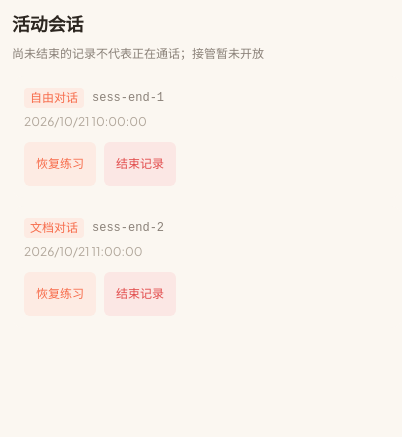
Test: ActiveSessions Component › Cross-platform lifecycle driving dashboard discovery › Explicit End Active Session (CP-02 §2) › displays inline confirmation without window.confirm and allows cancellation without network request
The width and height of the screenshot is (402, 437).
Note: 点击“结束记录”
Click the button with test id "end-session-button-sess-end-1": (140, 164) 104,142 -> 176,186
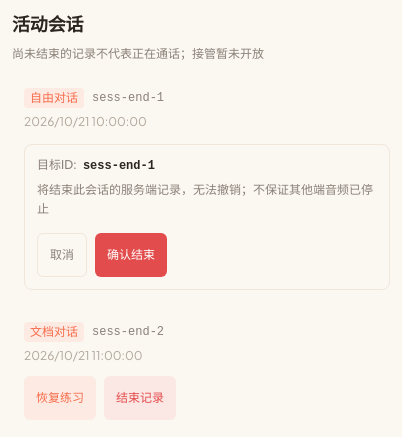
Expected: the element with test id "end-confirm-panel-sess-end-1" is shown, 24,144 -> 390,290
Expected: the text "目标ID:" is shown, 37,156 -> 77,172
Expected: the text with test id "confirm-session-id-sess-end-1" reads "sess-end-1", 83,158 -> 155,172
Click the button with test id "cancel-end-button-sess-end-1": (62, 254) 37,232 -> 87,276
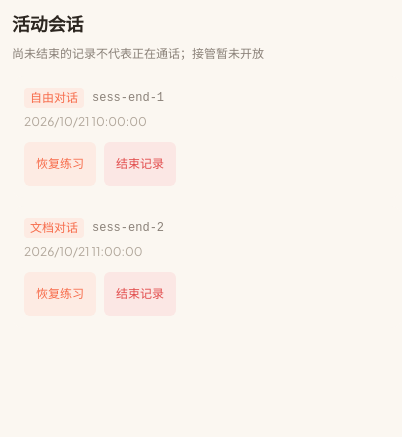
Expected: the element with test id "end-confirm-panel-sess-end-1" is gone
